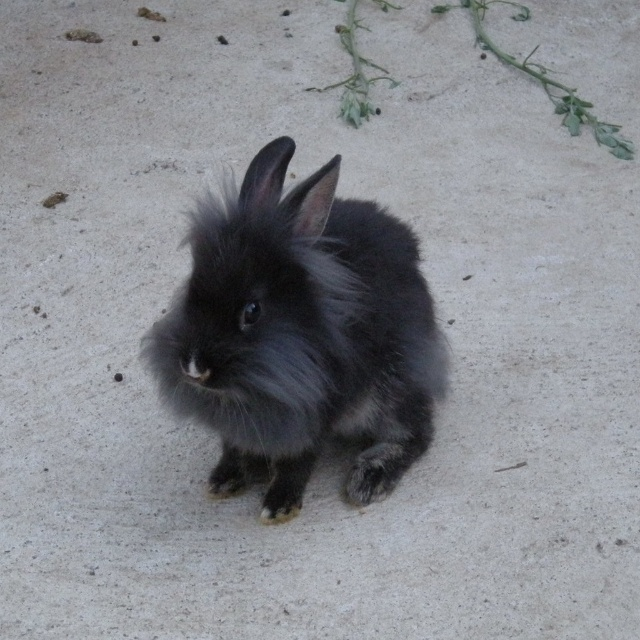Rabbit: (132, 137, 457, 528)
